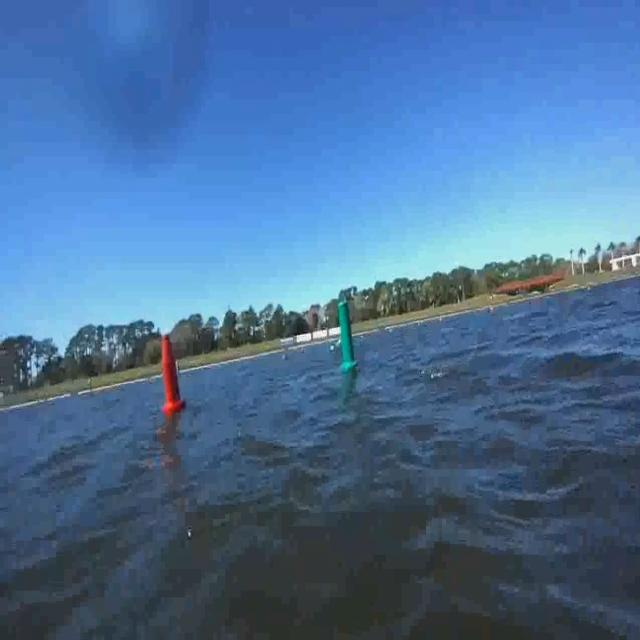green-column-buoy: (338, 301, 360, 374)
red-column-buoy: (161, 335, 186, 414)
